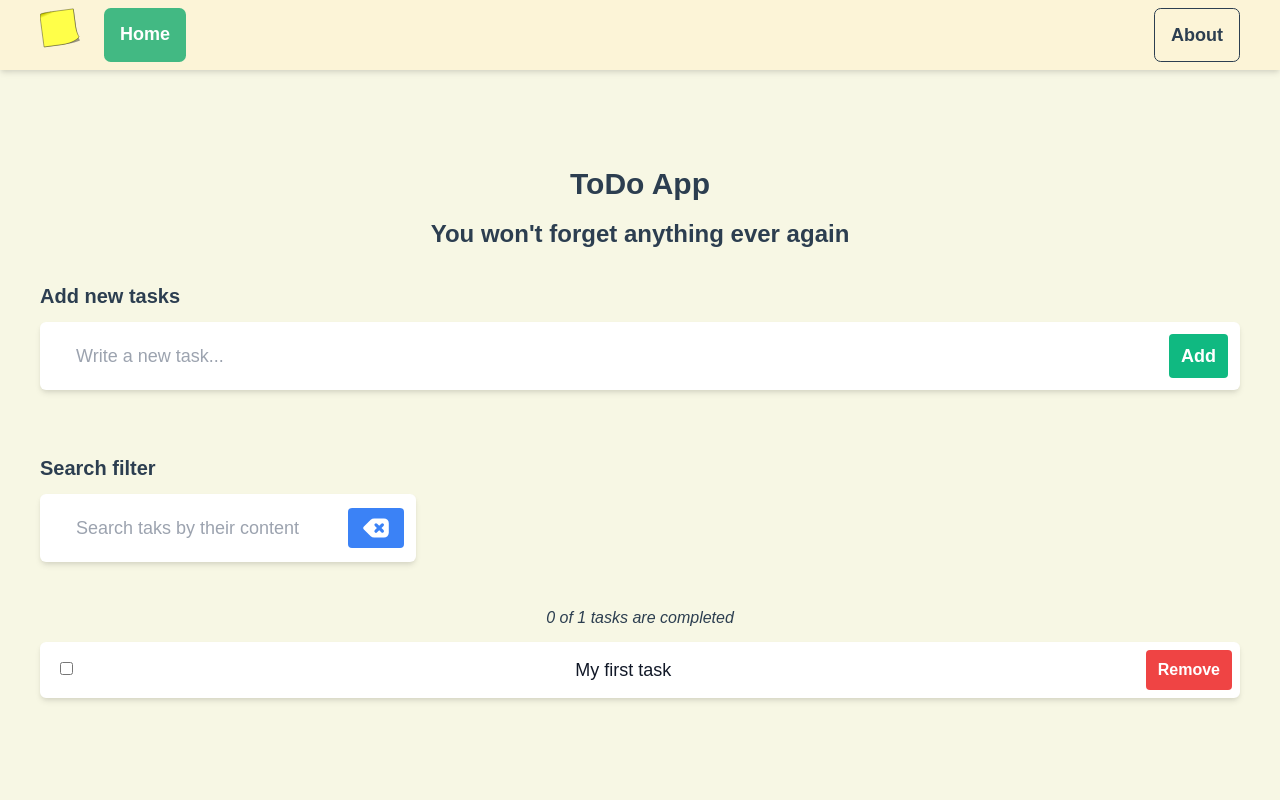
Test: about page › Should see about page
What coordinates should you click on to do the following:
click the link "About"
I would click on:
 (1197, 35)
Its box is [1154,8,1240,62].
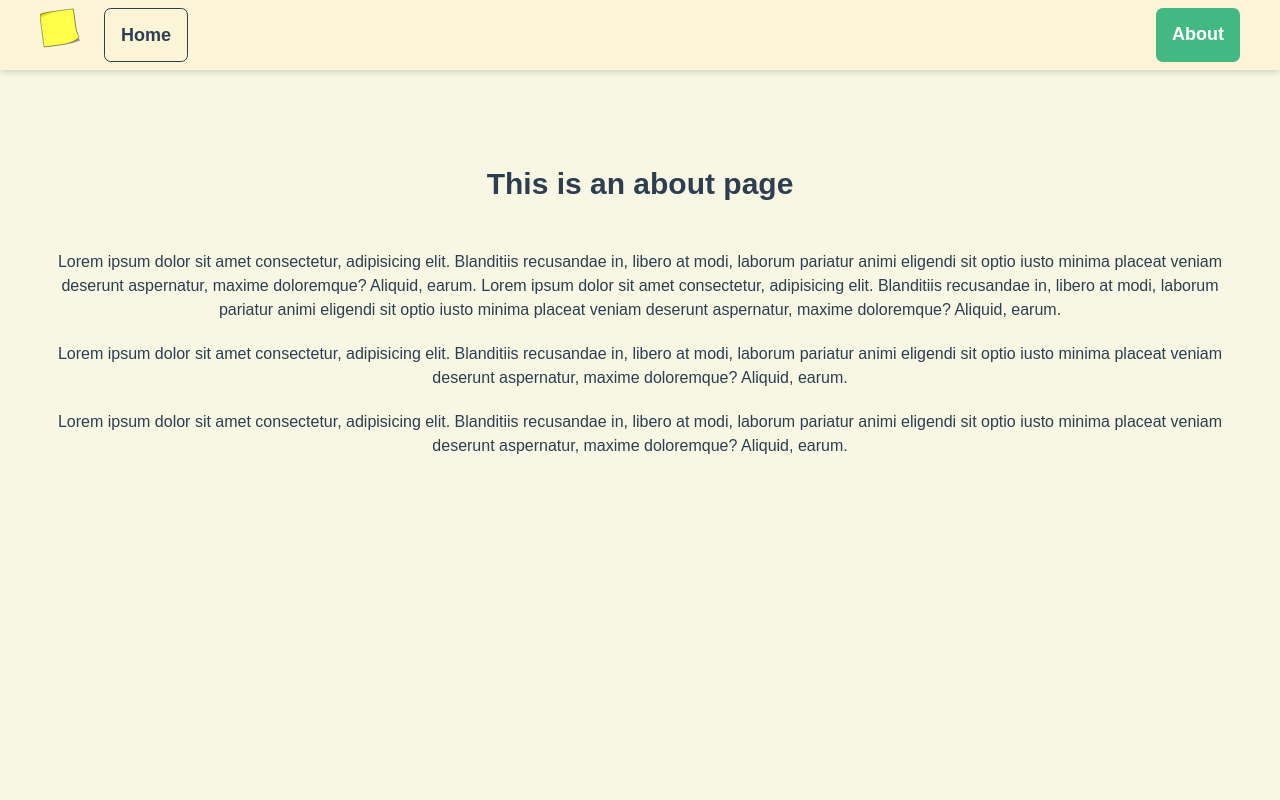
Now the heading "This is an about page" is shown, box [487,167,793,200]
